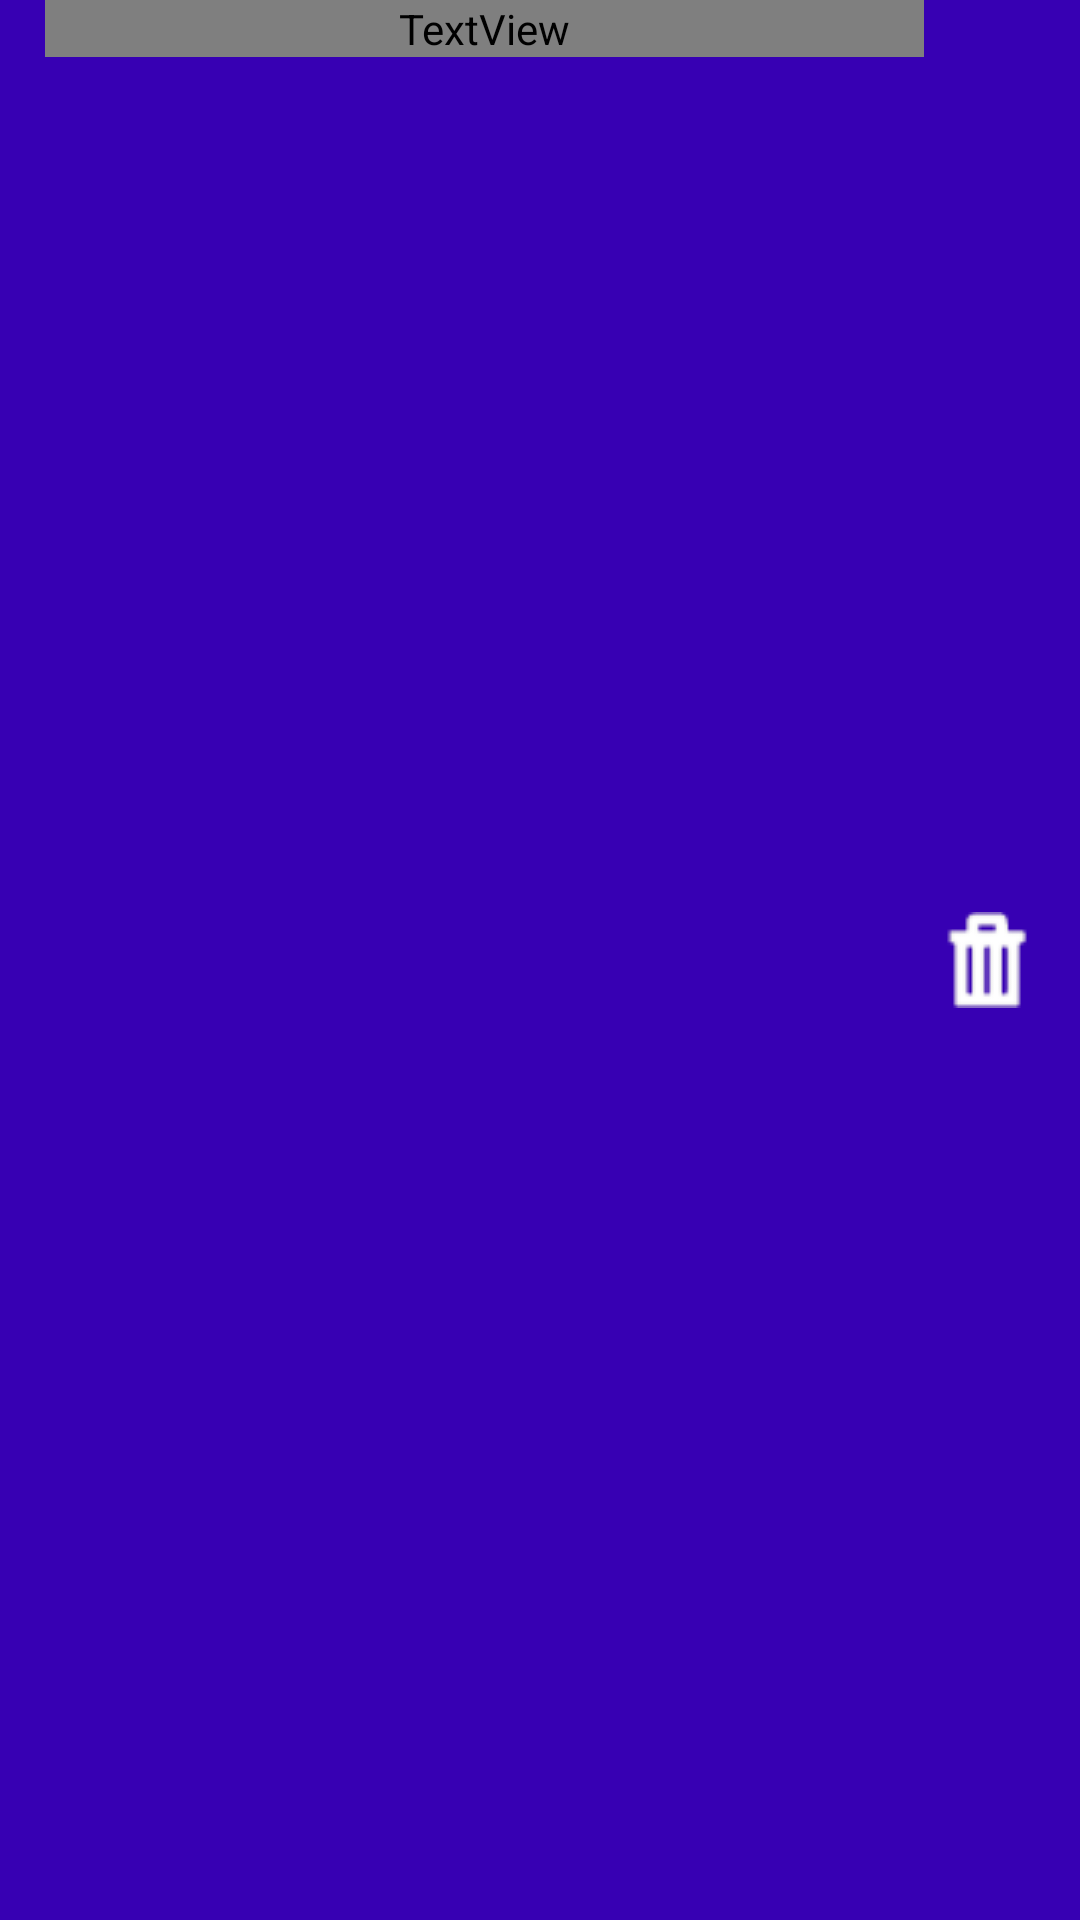

Locate icon controls on the screen. Image size 1080×1920, boxes as (x1, y1, x2, y2).
delete: (947, 912, 1027, 1008)
